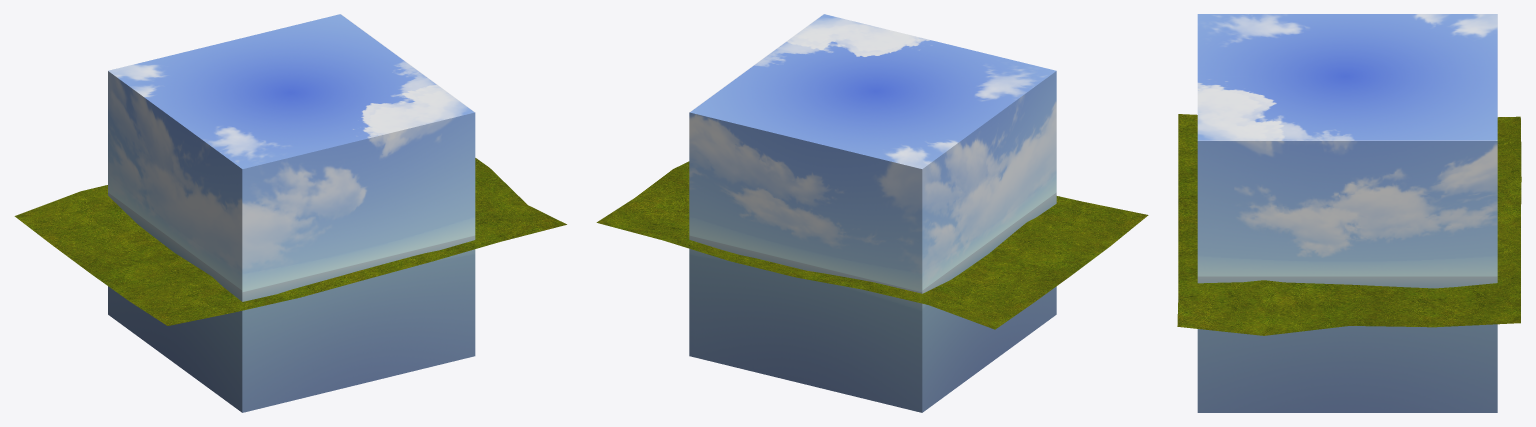
The model's file is bigscene.obj.
The picture shows the model from 3 angles, left to right: view 1: azimuth 30°, elevation 25°; view 2: azimuth 150°, elevation 25°; view 3: azimuth 270°, elevation 25°; orthographic projection. The views are drawn at different scales.
Visible parts, largest first — view 1: Cube, grass_ground; view 2: Cube, grass_ground; view 3: Cube, grass_ground.
Boxes of the visible parts, bbox=[...] form: Cube: bbox=[108, 14, 475, 412]; grass_ground: bbox=[14, 158, 566, 325]; Cube: bbox=[689, 14, 1056, 412]; grass_ground: bbox=[596, 161, 1148, 329]; Cube: bbox=[1197, 14, 1497, 412]; grass_ground: bbox=[1177, 114, 1521, 335].
Bounding box in the file's own units: 168 × 97.7 × 112.
